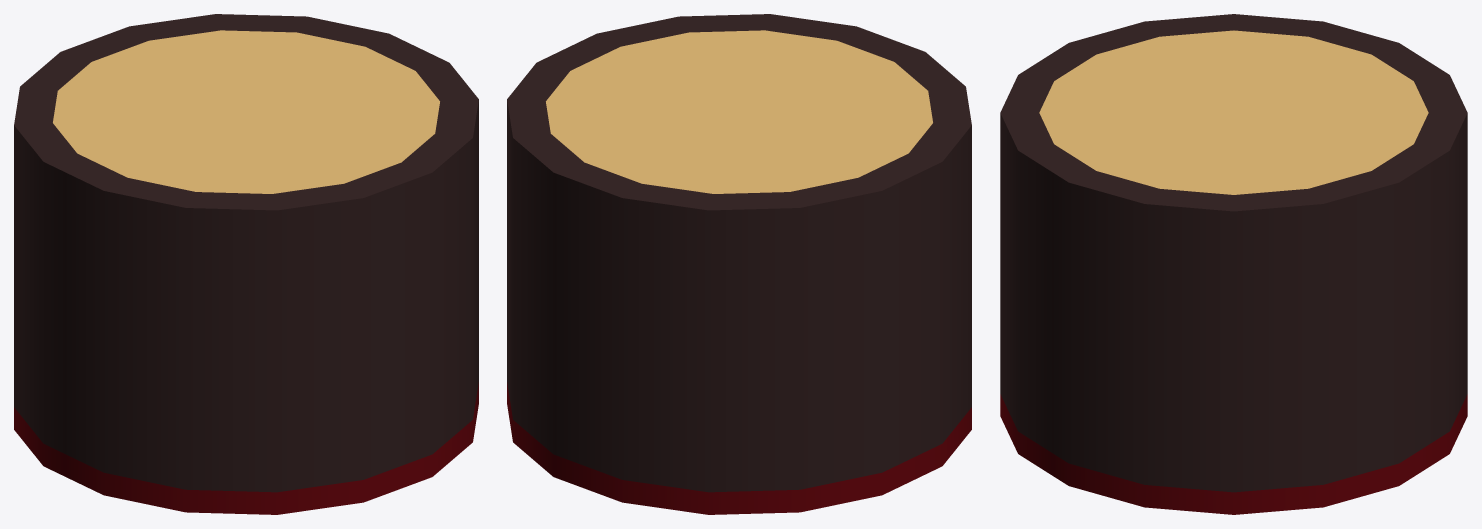
Rendered from WoodUp.fbx.
The picture shows the model from 3 angles, left to right: view 1: azimuth 30°, elevation 25°; view 2: azimuth 150°, elevation 25°; view 3: azimuth 270°, elevation 25°; orthographic projection.
Visible parts, largest first — view 1: wood3; view 2: wood3; view 3: wood3.
Boxes of the visible parts, x1=… form: wood3: x1=14, y1=14, x2=478, y2=514; wood3: x1=507, y1=14, x2=971, y2=514; wood3: x1=1000, y1=14, x2=1467, y2=514.
Bounding box in the file's own units: 8.11 × 5.81 × 8.11.
